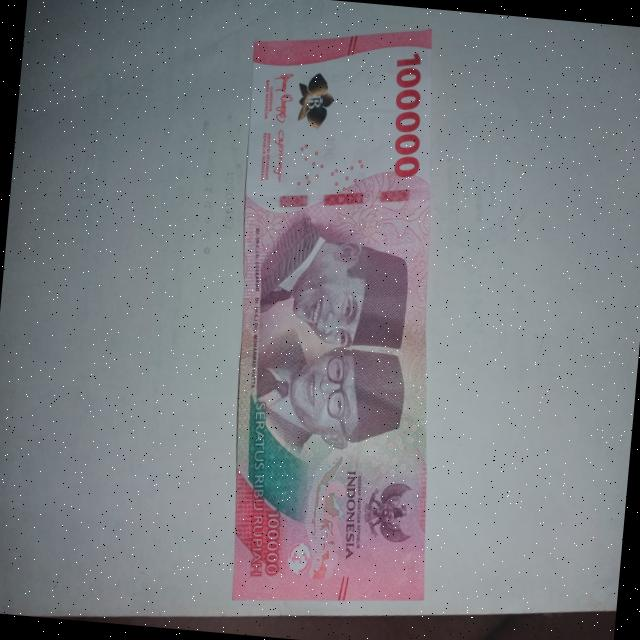100K: (200, 15, 480, 618)
